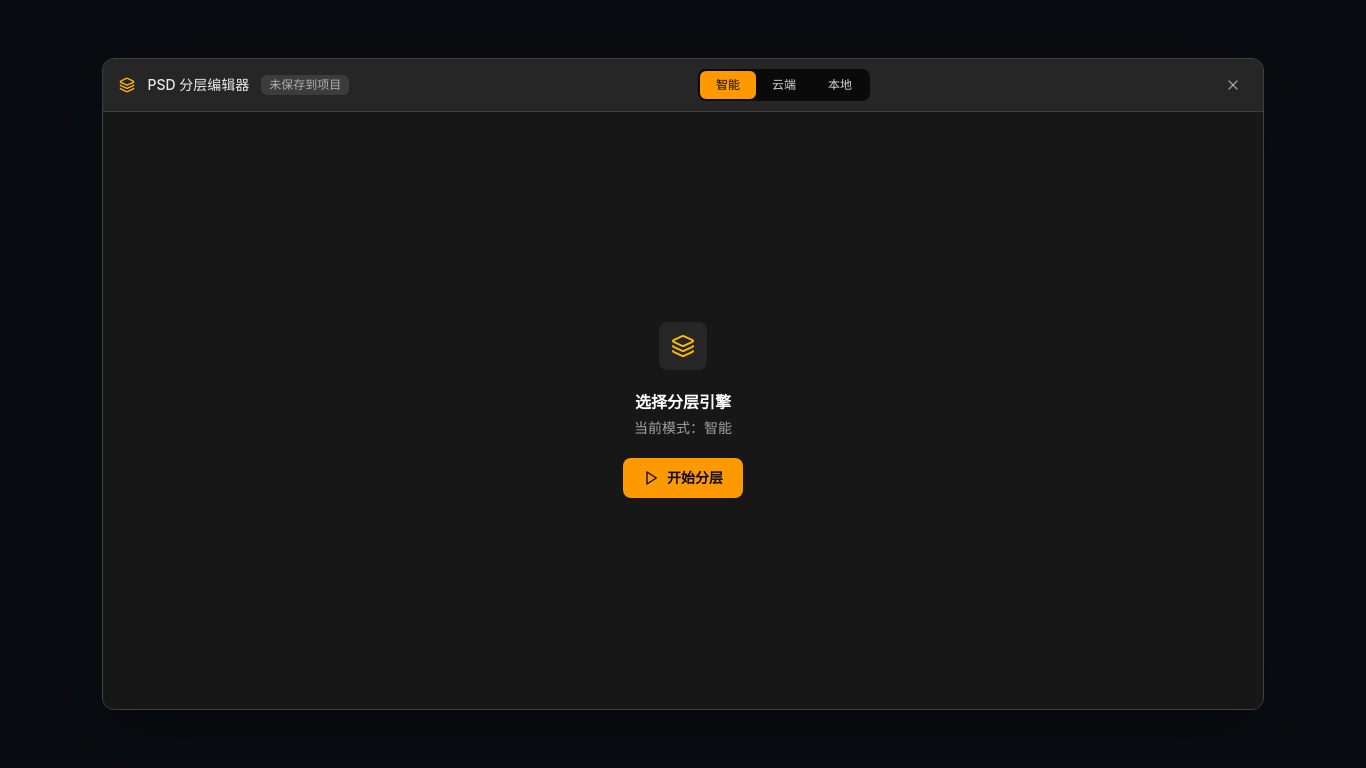
Test: PsdLayerEditor cancellation registration race › queues cancellation until the submitted task id arrives
This screenshot has width=1366, height=768.
Click the button with test id "layer-start" at (683, 478), box [623,458,743,498]
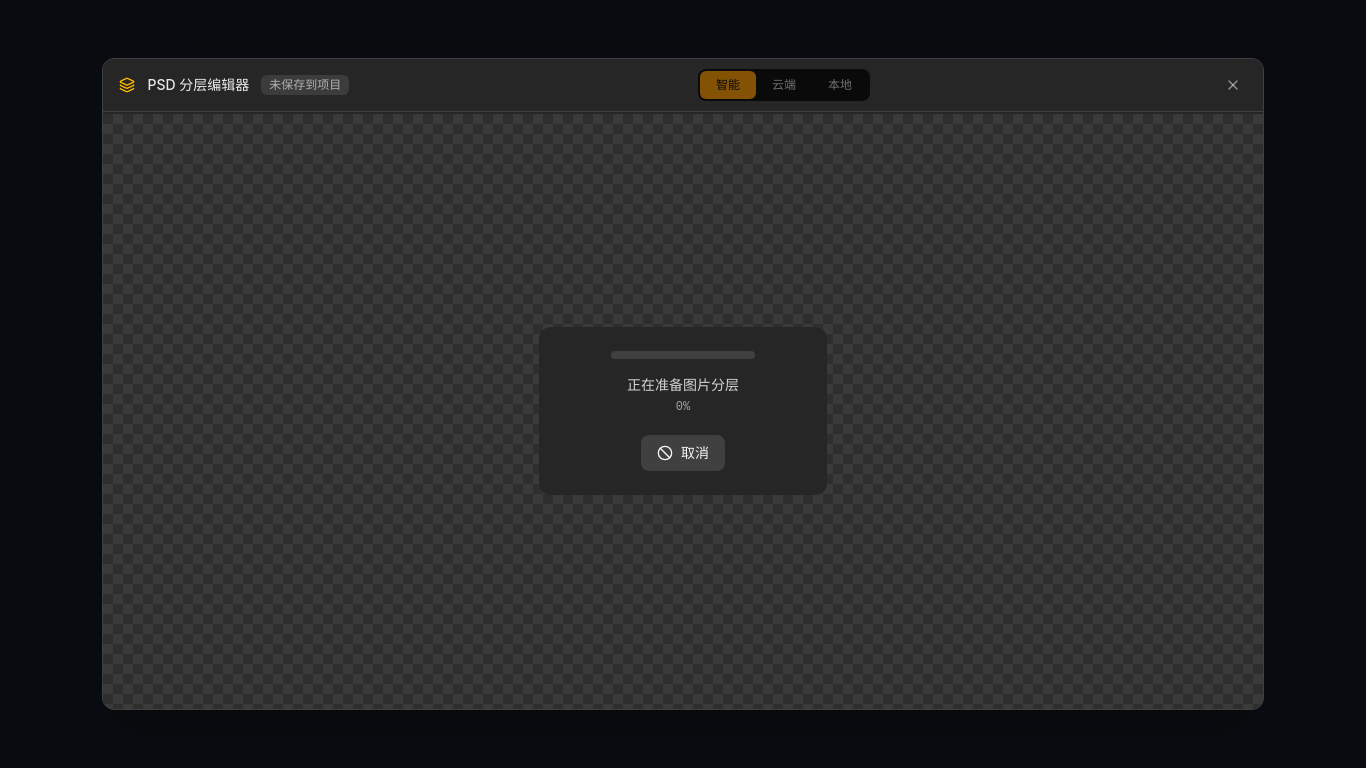
Click the button with test id "layer-cancel" at (683, 454), box [641,436,725,472]
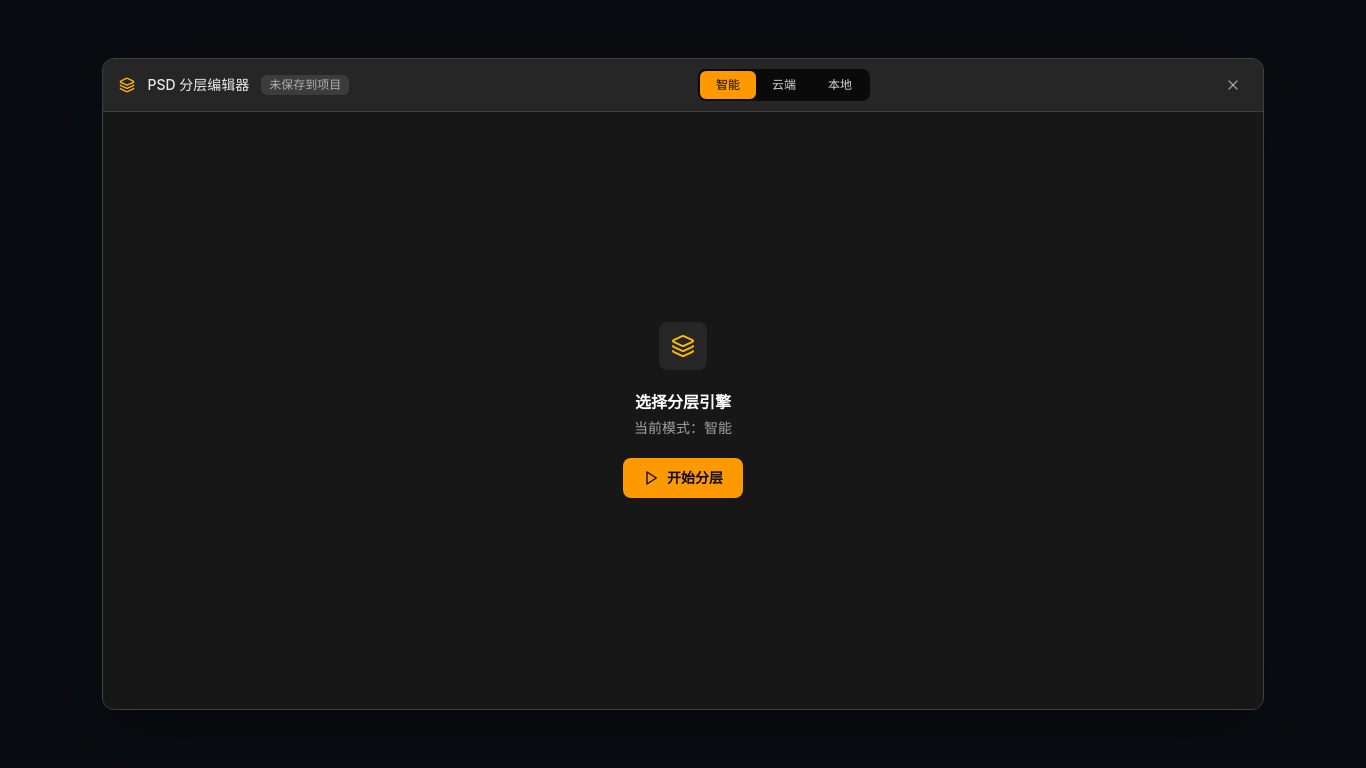
Expected: the button with test id "layer-start" is shown, [623,458,743,498]
